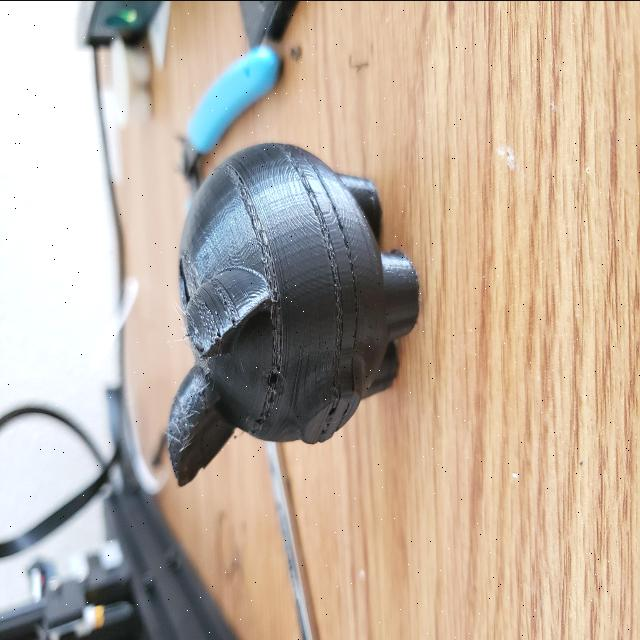cracking: (302, 168, 370, 484)
